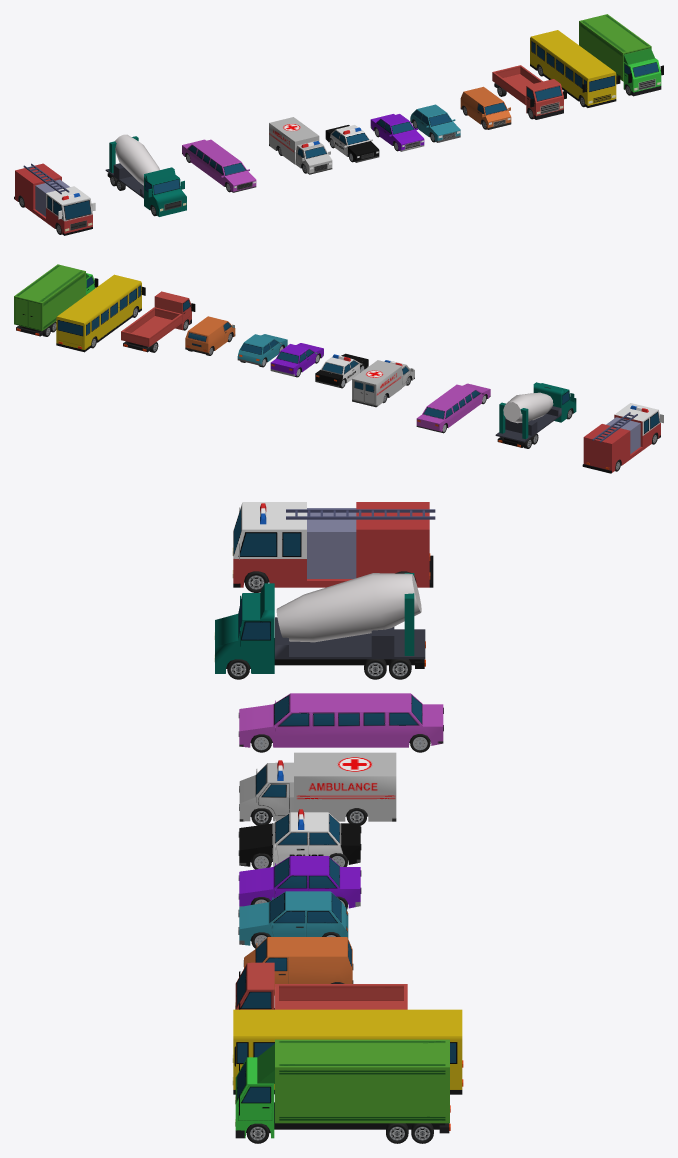
The model's file is vehicles.fbx.
3 views of the same model, one above another, from view 1: azimuth 30°, elevation 25°; view 2: azimuth 150°, elevation 25°; view 3: azimuth 270°, elevation 25° (orthographic). The views are drawn at different scales.
Parts seen in each view (by area): view 1: bus, truck1, fire_force, truck2, lori, ambulance, limo, van, police, car2, car1; view 2: bus, fire_force, truck1, truck2, lori, ambulance, limo, van, police, car2, car1; view 3: truck1, truck2, fire_force, limo, ambulance, bus, lori, police, car1, car2, van.
Boxes of the visible parts, x1,y1,x2,y2 form: bus: (530, 30, 620, 107); truck1: (579, 14, 663, 96); fire_force: (14, 163, 95, 235); truck2: (105, 134, 186, 216); lori: (492, 65, 566, 119); ambulance: (269, 117, 332, 174); limo: (182, 139, 256, 192); van: (460, 86, 511, 129); police: (325, 125, 379, 162); car2: (370, 114, 424, 151); car1: (410, 104, 460, 142); bus: (56, 274, 145, 352); fire_force: (582, 403, 663, 473); truck1: (14, 264, 98, 336); truck2: (495, 382, 576, 447); lori: (121, 291, 195, 352); ambulance: (352, 360, 414, 407); limo: (416, 383, 490, 432); van: (185, 316, 235, 354); police: (315, 353, 368, 387); car2: (270, 343, 323, 376); car1: (237, 334, 287, 365); truck1: (235, 1039, 450, 1138); truck2: (214, 573, 425, 673); fire_force: (232, 502, 435, 587); limo: (238, 693, 443, 747); ambulance: (239, 752, 396, 821); bus: (232, 1009, 463, 1094); lori: (235, 962, 407, 1009); police: (238, 809, 361, 866); car1: (238, 891, 348, 945); car2: (238, 856, 361, 908); van: (243, 937, 353, 995).
Bounding box in the file's own units: 4404 × 319 × 790.
